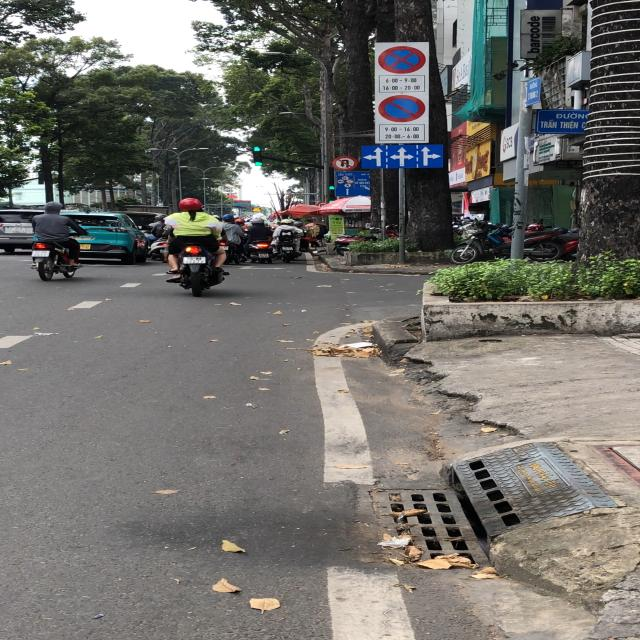Bien bao cam do xe: (377, 92, 430, 124)
Bien bao cam dung xe va do xe: (372, 42, 430, 76)
Bien bao cam quay dau xe: (330, 154, 361, 172)
